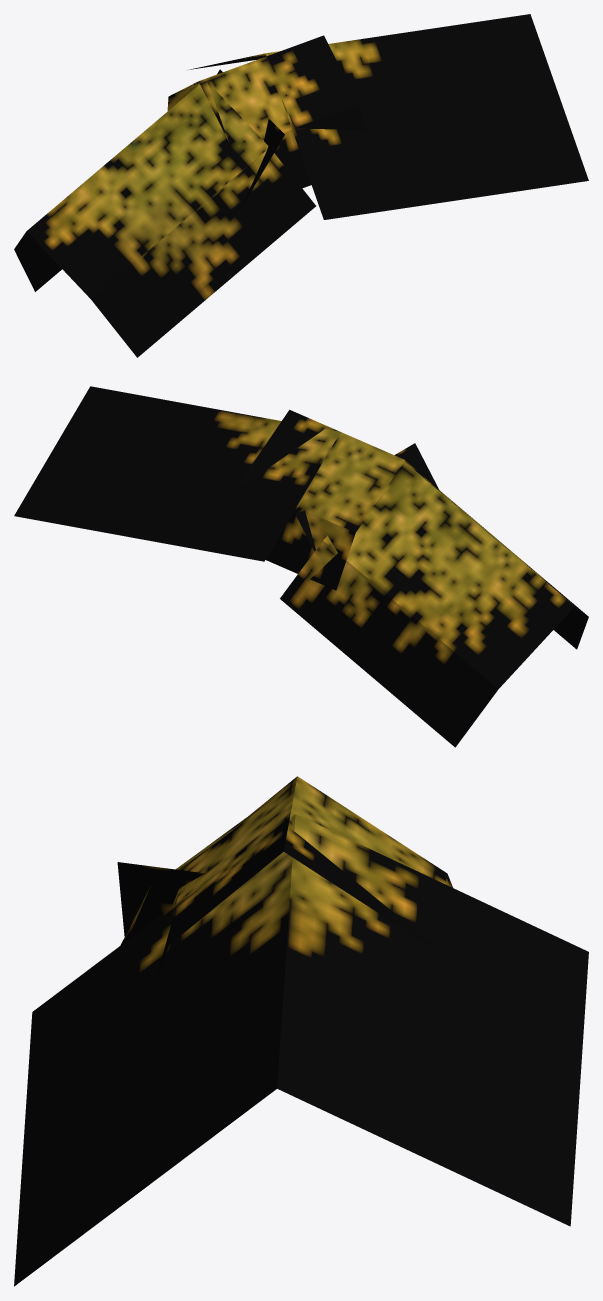
Rendered from larch_leaves_slab.obj.
The picture shows the model from 3 angles, top to bottom: view 1: azimuth 30°, elevation 25°; view 2: azimuth 150°, elevation 25°; view 3: azimuth 270°, elevation 25°; orthographic projection. The views are drawn at different scales.
Visible parts, largest first — view 1: plane, cube; view 2: plane, cube; view 3: plane, cube.
Part boxes in pixels (x1=…): plane: x1=14, y1=14, x2=588, y2=357; cube: x1=217, y1=69, x2=284, y2=207; plane: x1=14, y1=386, x2=588, y2=747; cube: x1=295, y1=443, x2=438, y2=551; plane: x1=14, y1=776, x2=588, y2=1286; cube: x1=117, y1=862, x2=205, y2=939.
Size of the model in its own units: 2.87 by 1.34 by 1.54.
